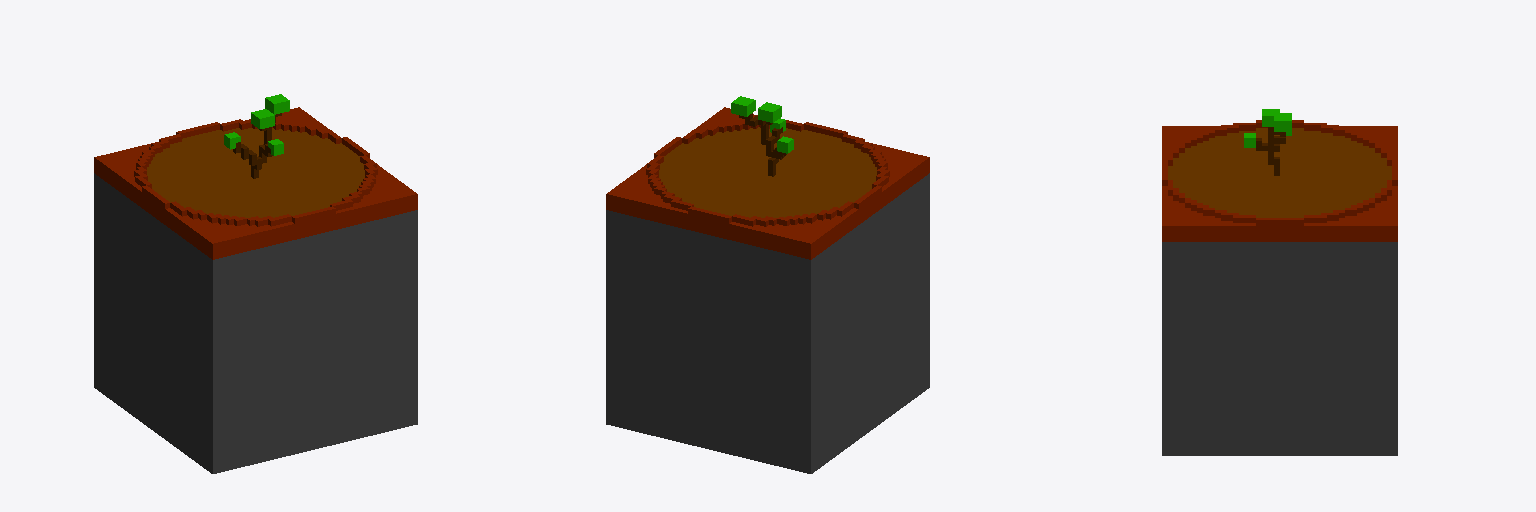
3 renders of one model, left to right at view 1: azimuth 30°, elevation 25°; view 2: azimuth 150°, elevation 25°; view 3: azimuth 270°, elevation 25°, orthographic.
Visible parts, largest first — view 1: object 1; view 2: object 1; view 3: object 1.
Boxes of the visible parts, <box> form: object 1: <box>94,94,417,473</box>; object 1: <box>606,96,929,473</box>; object 1: <box>1162,109,1397,455</box>.
Size of the model in its own units: 4 by 5.6 by 4.
Materials: 1 (1 with a texture image).